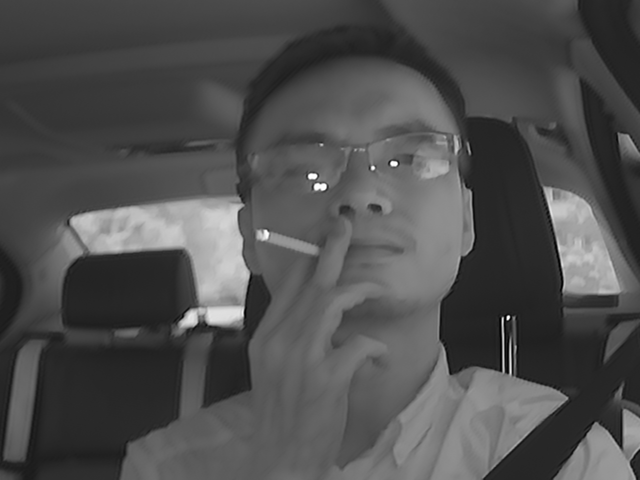hand: (256, 230, 394, 378)
